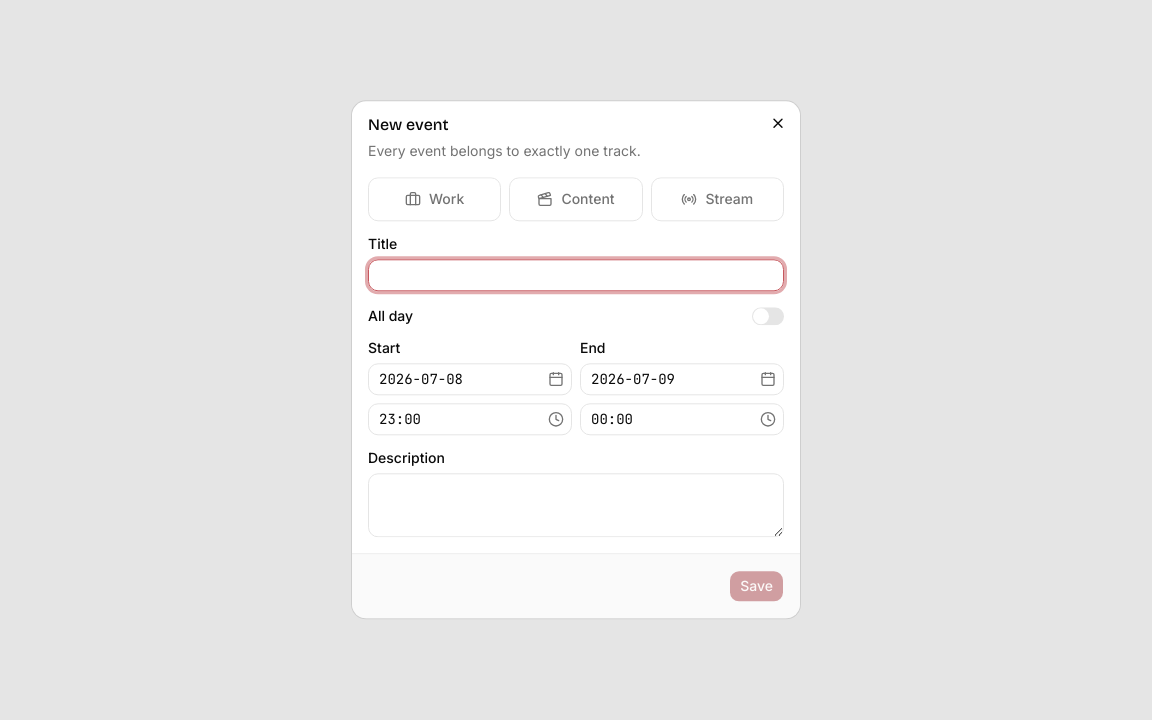
Test: EventEditor — single-day content kinds › renders one Date field and no end-date input for stream
Click the radio button labelled "Stream": {"x": 717, "y": 199} 651,177 -> 784,221
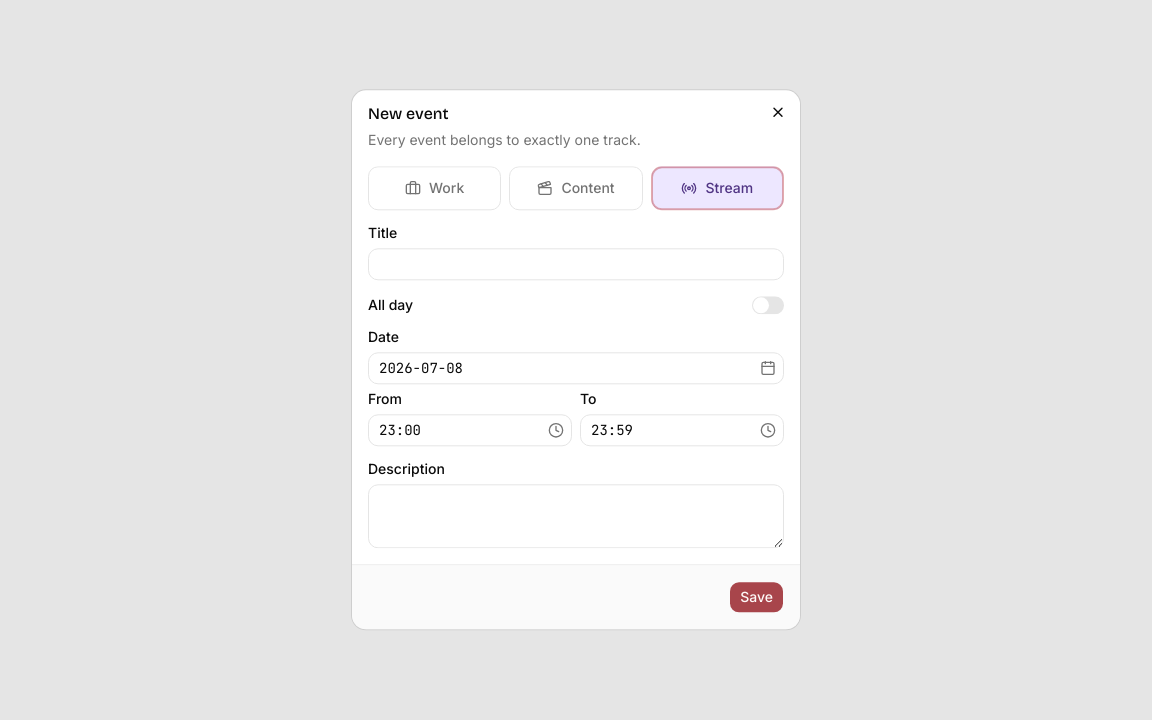
Expected: the field labelled "Date" holds "2026-07-08", 369,353 -> 756,385
Expected: the label labelled "Start" is gone
Expected: the label labelled "End" is gone
